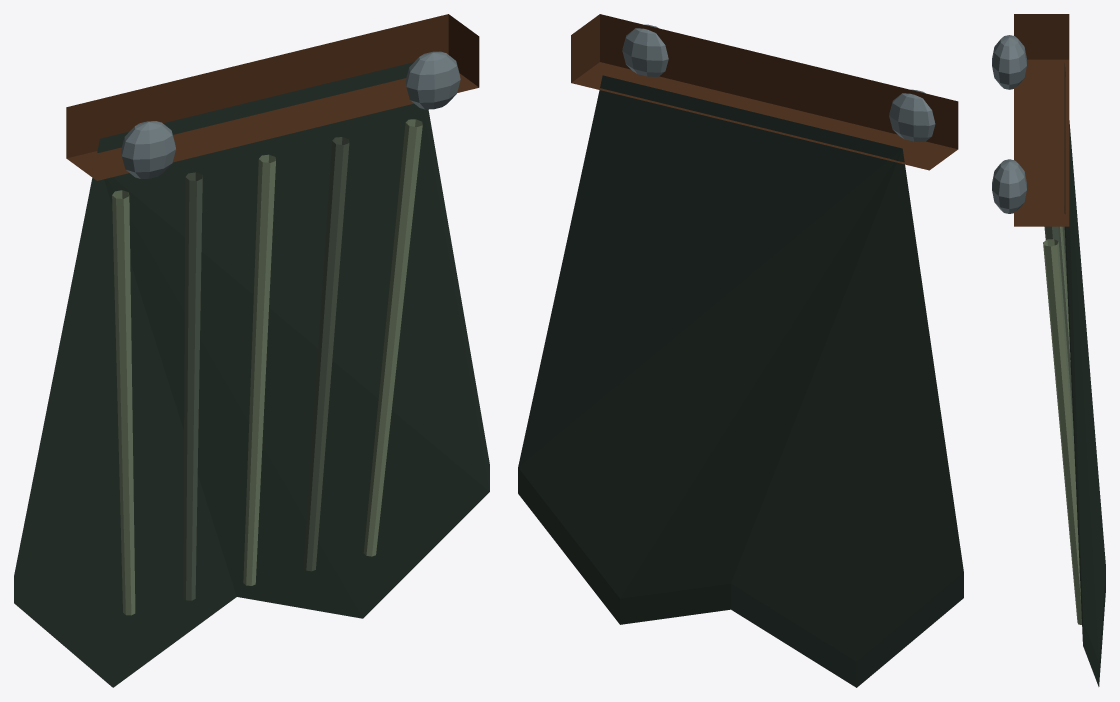
The model's file is MagicForestCape.obj.
The picture shows the model from 3 angles, left to right: view 1: azimuth 30°, elevation 25°; view 2: azimuth 150°, elevation 25°; view 3: azimuth 270°, elevation 25°; orthographic projection. The views are drawn at different scales.
Parts seen in each view (by area): view 1: CapeMain, CapeCollar, Fold4, Fold3, Fold2, Fold1, Fold0, Clasp1, Clasp-1; view 2: CapeMain, CapeCollar, Clasp-1, Clasp1; view 3: CapeCollar, CapeMain, Fold4, Clasp1, Clasp-1, Fold3, Fold2.
Boxes of the visible parts, <box> form: CapeMain: <box>14,62,489,687</box>; CapeCollar: <box>66,14,479,180</box>; Fold4: <box>363,119,422,556</box>; Fold3: <box>303,137,349,571</box>; Fold2: <box>243,154,275,585</box>; Fold1: <box>183,172,202,600</box>; Fold0: <box>112,190,135,615</box>; Clasp1: <box>405,51,460,109</box>; Clasp-1: <box>121,121,175,178</box>; CapeMain: <box>518,75,963,687</box>; CapeCollar: <box>571,14,958,170</box>; Clasp-1: <box>889,89,935,141</box>; Clasp1: <box>622,24,668,76</box>; CapeCollar: <box>1014,14,1069,226</box>; CapeMain: <box>1064,63,1105,686</box>; Fold4: <box>1043,239,1081,624</box>; Clasp1: <box>992,159,1026,213</box>; Clasp-1: <box>992,35,1026,89</box>; Fold3: <box>1044,226,1073,429</box>; Fold2: <box>1060,226,1070,361</box>.
Size of the model in its own units: 2.16 by 2.64 by 0.501.
